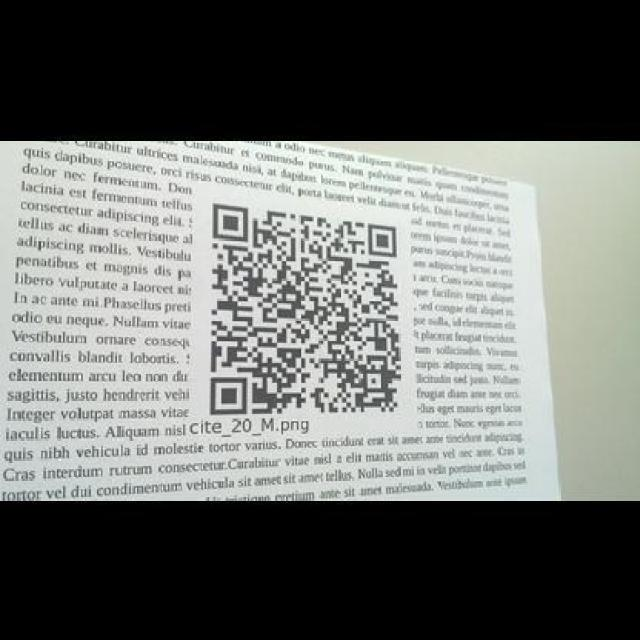QRCode: (208, 198, 407, 418)
